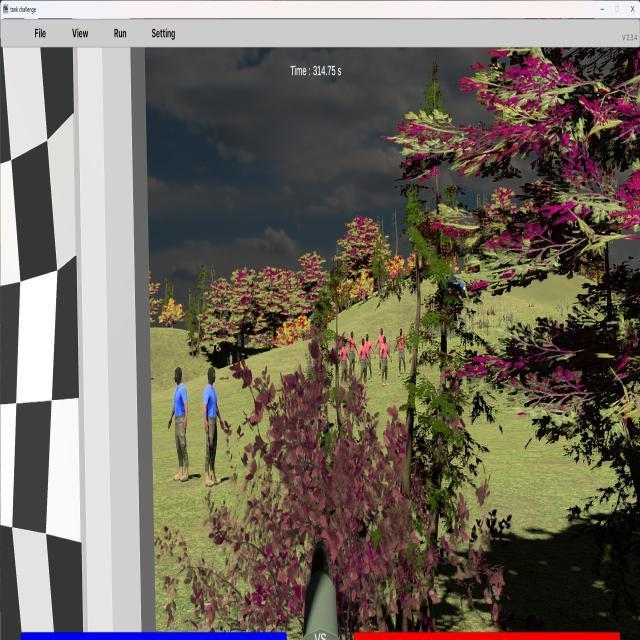Human: (203, 367, 227, 487), (168, 367, 189, 481), (357, 337, 371, 388), (395, 327, 408, 377), (380, 333, 392, 387), (338, 340, 350, 388), (376, 328, 388, 375), (348, 332, 359, 378)
